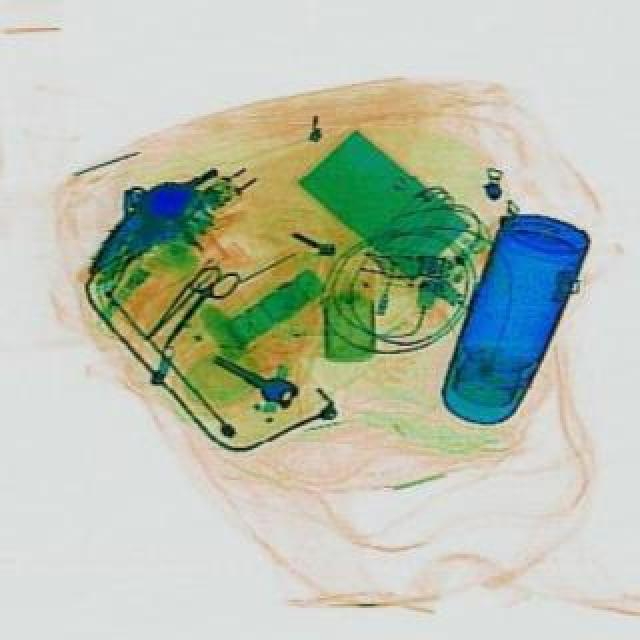pliers: (156, 258, 250, 358)
